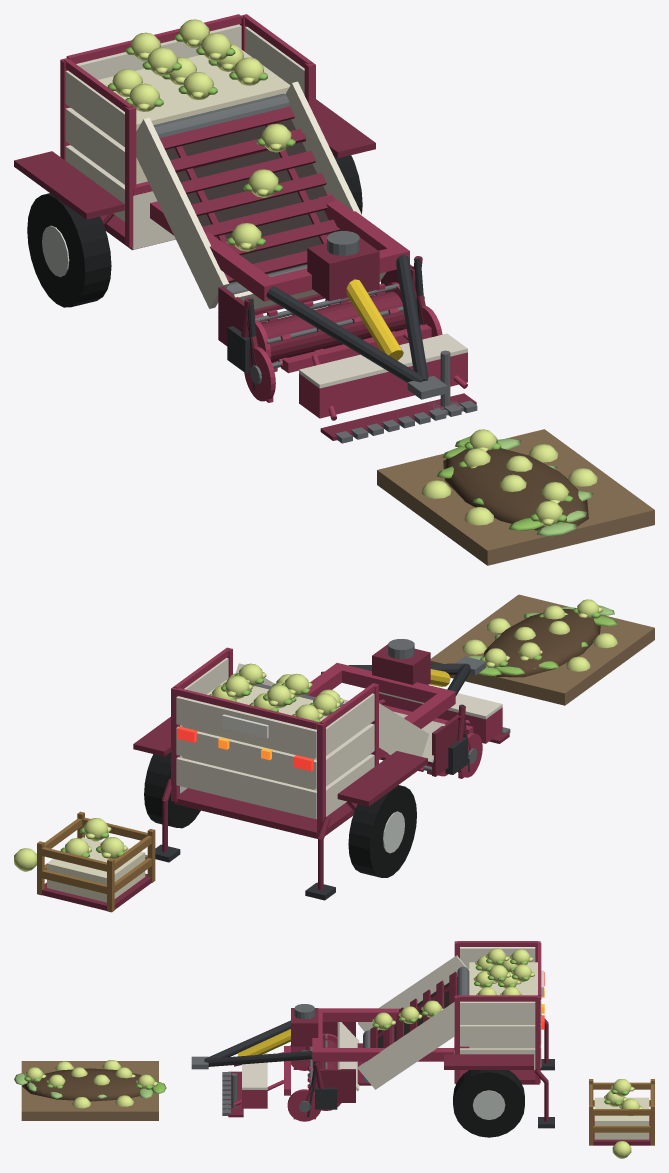
File: lettuce_harvester.glb
The picture shows the model from 3 angles, top to bottom: view 1: azimuth 30°, elevation 25°; view 2: azimuth 150°, elevation 25°; view 3: azimuth 270°, elevation 25°; orthographic projection. The views are drawn at different scales.
Parts seen in each view (by area): view 1: LettuceBody, LettuceProps, LettucePickup; view 2: LettuceBody, LettuceProps; view 3: LettuceBody, LettuceProps, LettucePickup.
Boxes of the visible parts, x1,y1,x2,y2 form: LettuceBody: (14,14,477,443); LettuceProps: (377,429,654,565); LettucePickup: (254,282,406,371); LettuceBody: (133,639,510,900); LettuceProps: (14,594,654,912); LettuceBody: (191,941,554,1137); LettuceProps: (14,1060,654,1158); LettucePickup: (307,1033,341,1110).
Size of the model in its own units: 3.03 by 1.78 by 7.48.
